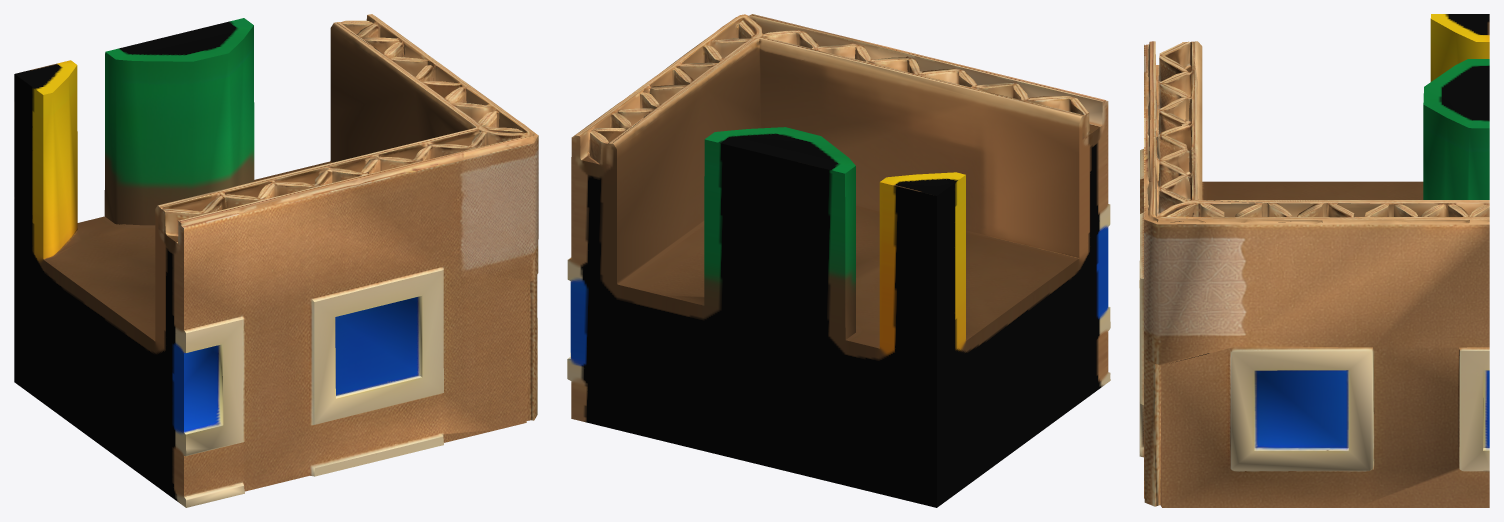
File: 6-upper-walls-front-right.fbx
3 views of the same model, side by side, from view 1: azimuth 30°, elevation 25°; view 2: azimuth 150°, elevation 25°; view 3: azimuth 270°, elevation 25° (orthographic).
Parts seen in each view (by area): view 1: upper-walls-front-right; view 2: upper-walls-front-right; view 3: upper-walls-front-right.
Boxes of the visible parts, left/top/right/bottom form: upper-walls-front-right: left=14, top=14, right=538, bottom=507; upper-walls-front-right: left=567, top=14, right=1110, bottom=507; upper-walls-front-right: left=1139, top=14, right=1489, bottom=507.
Bounding box in the file's own units: 5047 × 4070 × 4109.
1 material, 1 textured.
